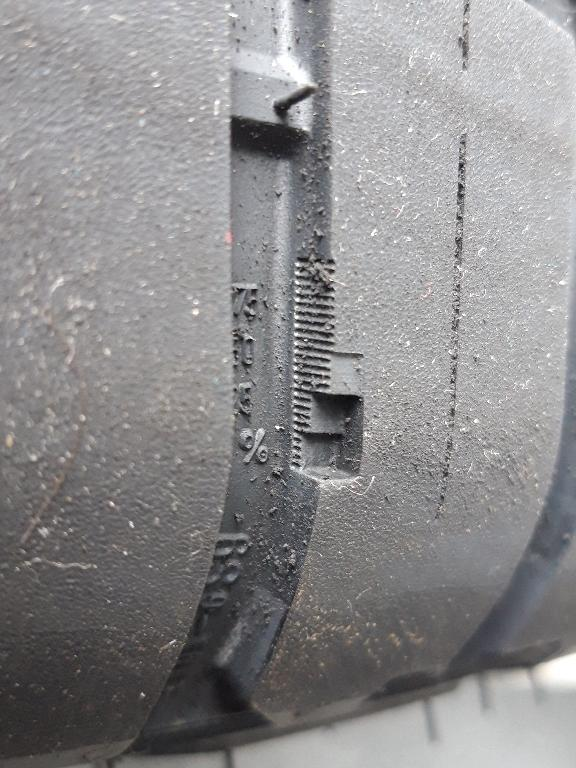temoin:50: (277, 334, 378, 496)
